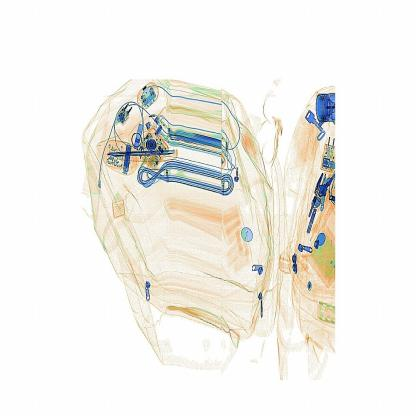pliers: (107, 146, 180, 166)
